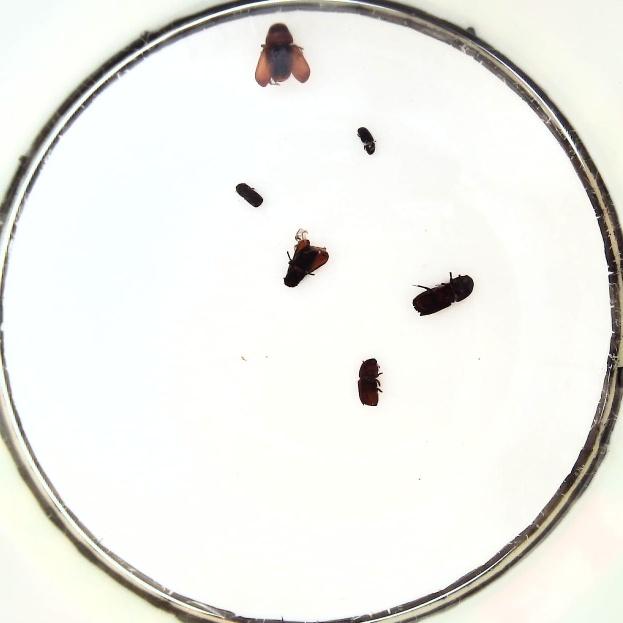acuminatus: (235, 181, 263, 207)
boerner: (412, 271, 474, 316)
coleoptera: (357, 125, 375, 156)
leconte: (253, 23, 311, 88), (284, 231, 330, 286)
linnaeus: (357, 358, 383, 407)
